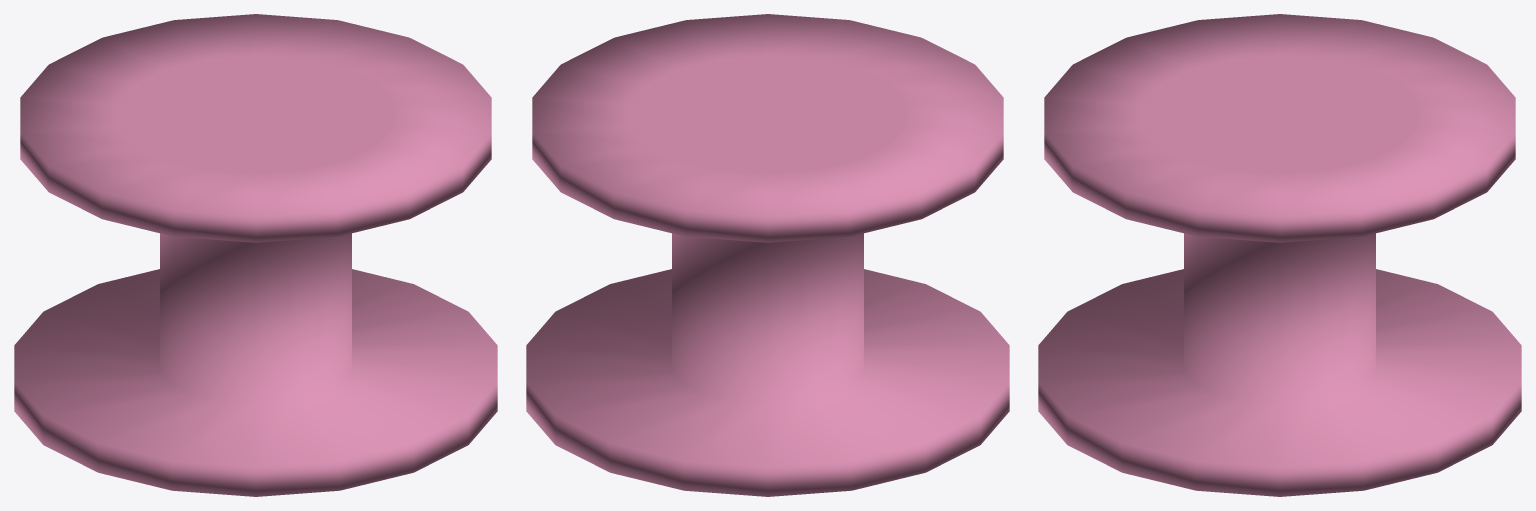
Rendered from Spool.fbx.
3 views of the same model, side by side, from view 1: azimuth 30°, elevation 25°; view 2: azimuth 150°, elevation 25°; view 3: azimuth 270°, elevation 25° (orthographic).
Visible parts, largest first — view 1: Spool:Cylinder001; view 2: Spool:Cylinder001; view 3: Spool:Cylinder001.
Boxes of the visible parts, box(x1,y1,x2,y2) form: Spool:Cylinder001: box(14, 14, 497, 496); Spool:Cylinder001: box(526, 14, 1009, 496); Spool:Cylinder001: box(1038, 14, 1521, 496).
Size of the model in its own units: 20.07 by 12.54 by 19.76.
